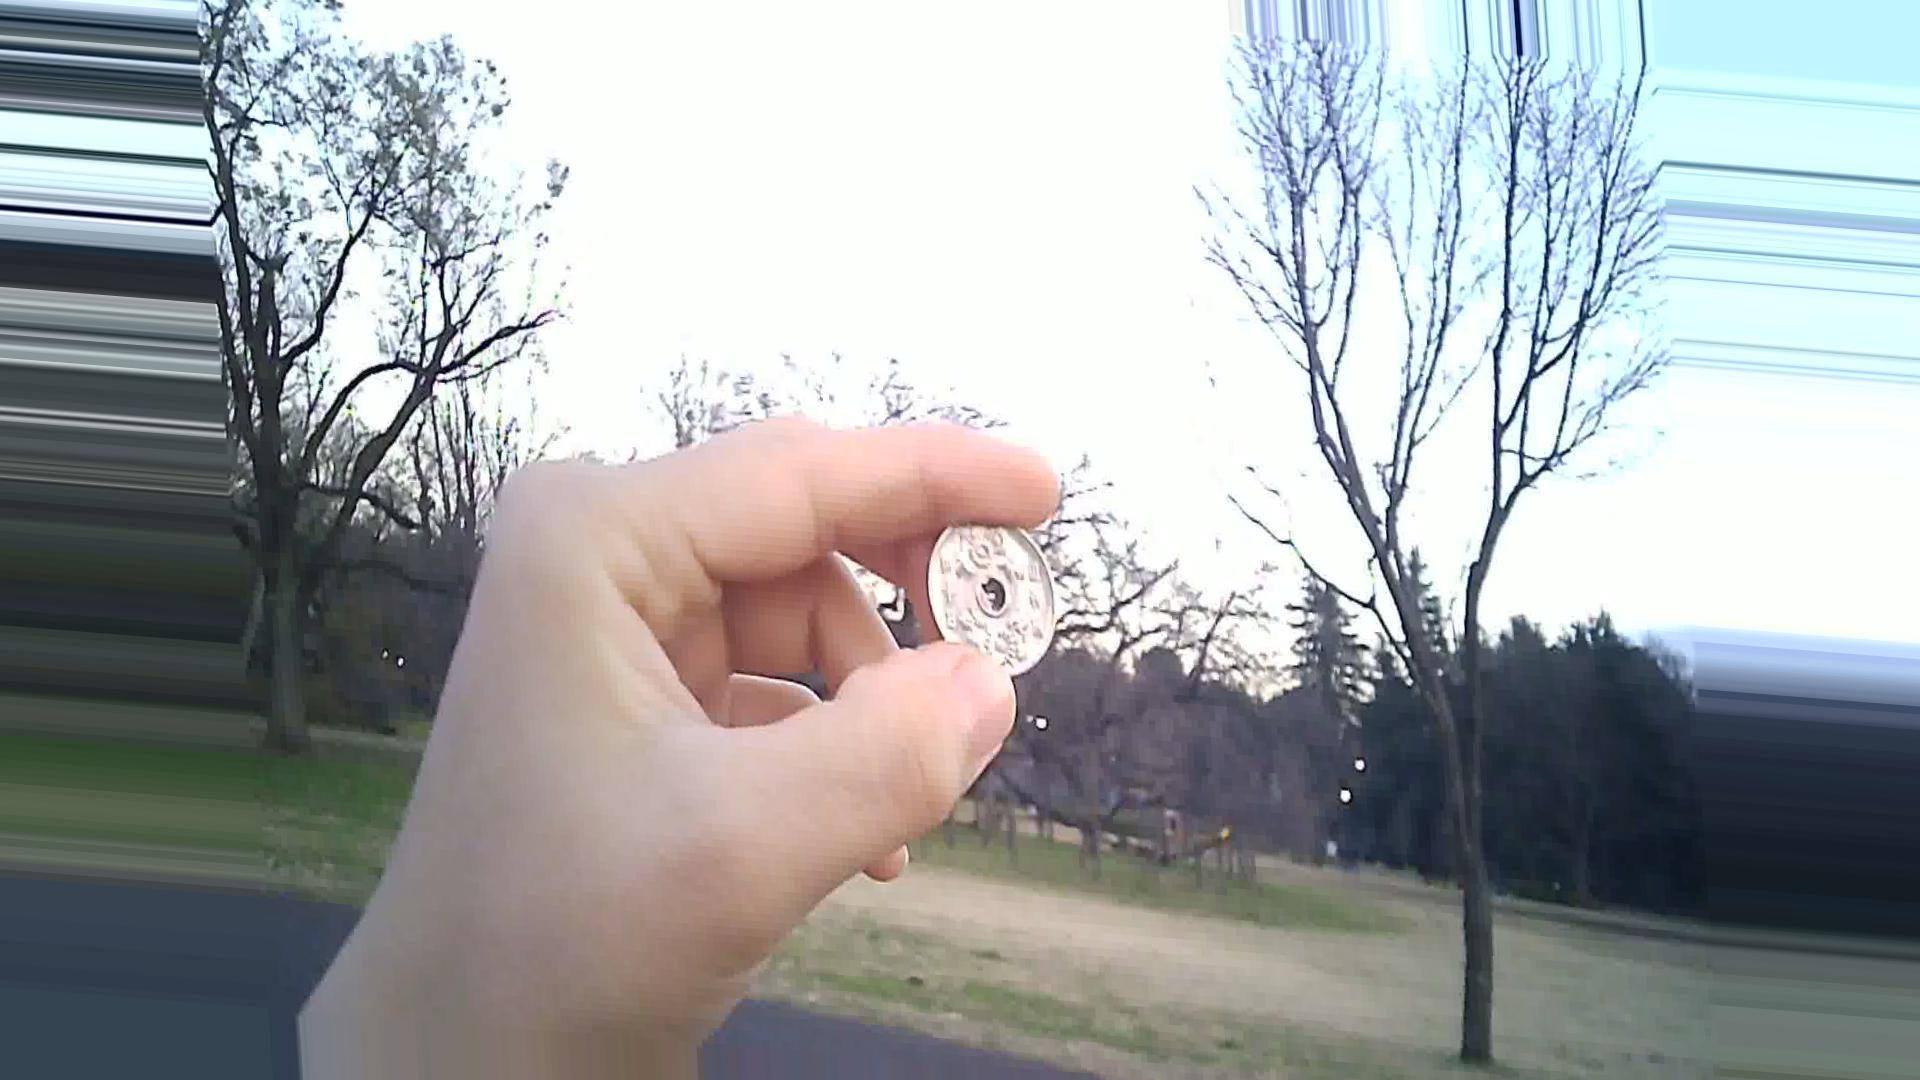50 Yen: (905, 512, 1075, 709)
